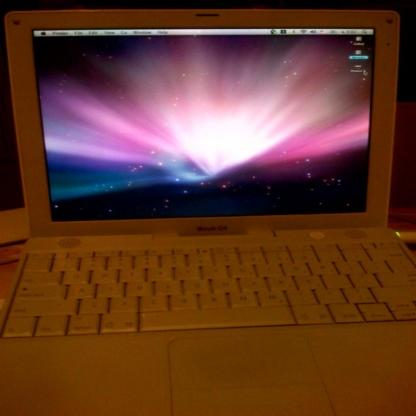board: (0, 7, 415, 415)
